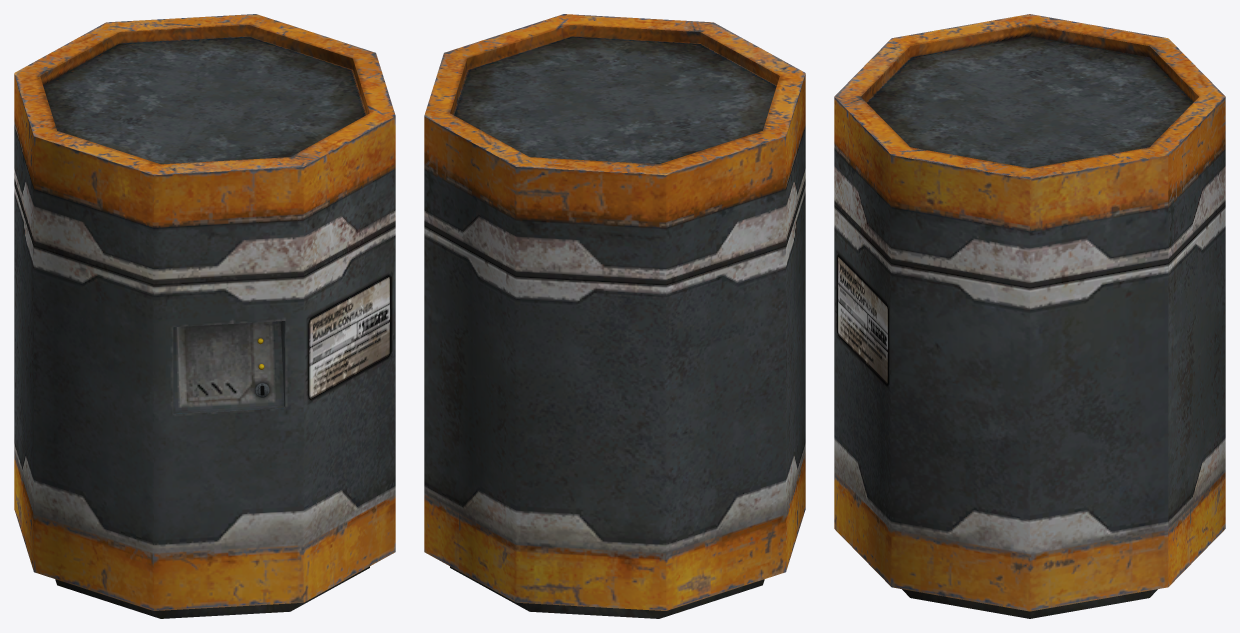
Rendered from sample_container_small.DAE.
3 views of the same model, side by side, from view 1: azimuth 30°, elevation 25°; view 2: azimuth 150°, elevation 25°; view 3: azimuth 270°, elevation 25° (orthographic).
Visible parts, largest first — view 1: sample_container_small; view 2: sample_container_small; view 3: sample_container_small.
Boxes of the visible parts, x1,y1,x2,y2 form: sample_container_small: (14,14,395,618); sample_container_small: (424,14,805,618); sample_container_small: (834,14,1225,618).
Size of the model in its own units: 32.44 by 41.2 by 32.44.
